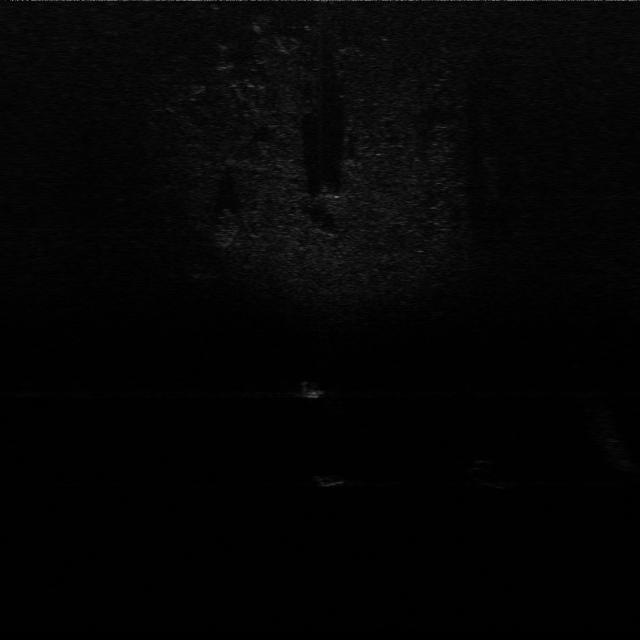cube: (309, 466, 357, 490)
square cage: (287, 373, 332, 402)
tyre: (472, 454, 520, 492)
